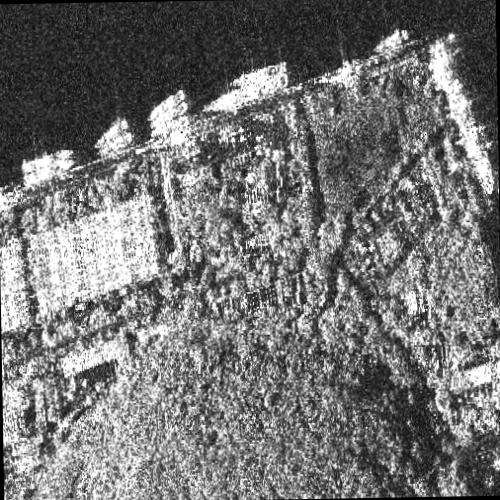ship: (428, 38, 494, 193), (201, 72, 288, 113), (229, 60, 287, 87), (24, 160, 75, 187), (22, 149, 74, 175), (93, 117, 129, 148), (148, 90, 185, 120), (150, 101, 189, 128), (151, 113, 190, 137), (98, 132, 133, 157), (374, 29, 409, 52)
